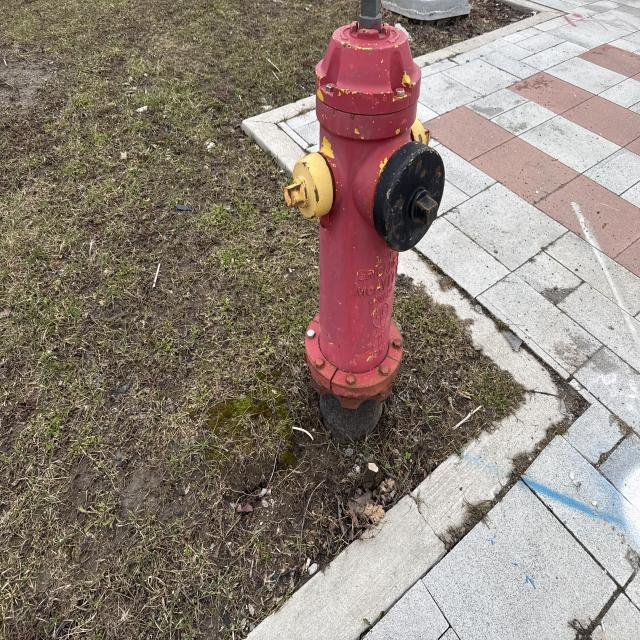Fire hydrant: (282, 0, 445, 411)
